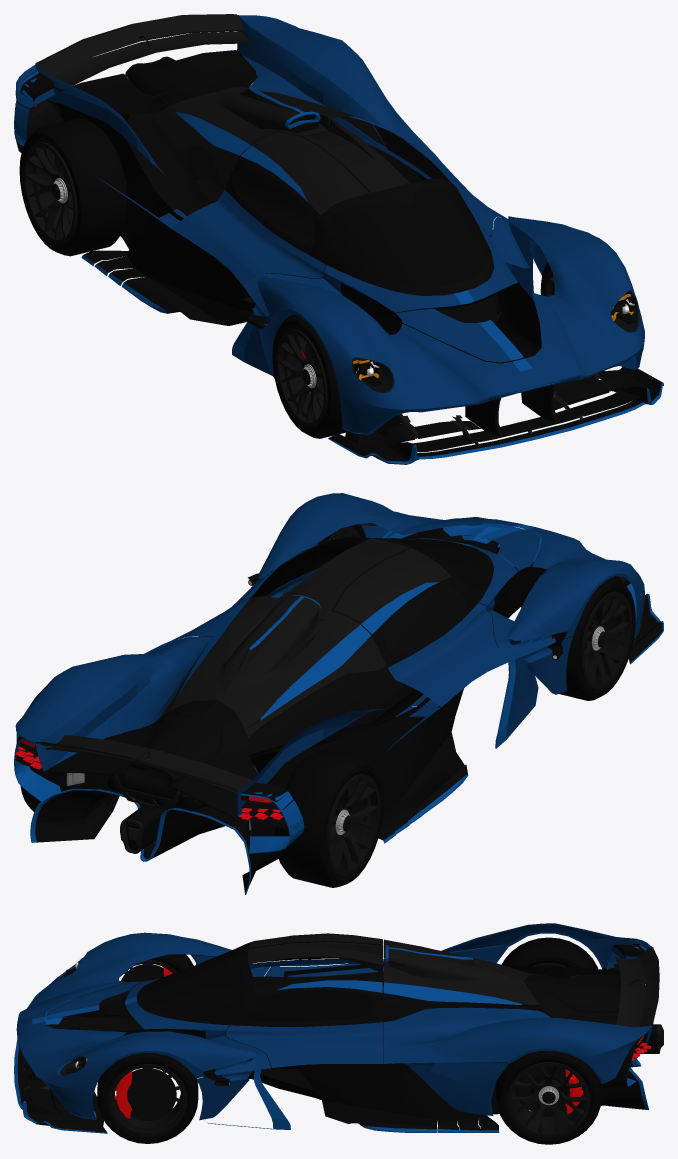
File: sport_car.gltf
The picture shows the model from 3 angles, top to bottom: view 1: azimuth 30°, elevation 25°; view 2: azimuth 150°, elevation 25°; view 3: azimuth 270°, elevation 25°; orthographic projection. The views are drawn at different scales.
Parts seen in each view (by area): view 1: Body, Plane011, Plane047, Plane003, RearLeftWheel, Plane027, Plane114, Plane025, Plane084, Plane005, Plane008, Plane015 (+21 smaller); view 2: Plane011, Body, Plane003, Plane005, Plane114, RearLeftWheel, Plane025, Plane007, Plane015, Plane027, Plane047, Plane014 (+21 smaller); view 3: Body, Plane011, Plane003, Plane047, Plane005, Plane023, Plane114, Plane084, Plane022, RearRightWheel, FrontRightWheel, Plane027 (+23 smaller).
Boxes of the visible parts, box(x1,y1,x2,y2) form: Body: box(243, 216, 644, 433); Plane011: box(57, 81, 541, 363); Plane047: box(329, 130, 488, 286); Plane003: box(237, 15, 441, 161); RearLeftWheel: box(19, 118, 127, 256); Plane027: box(35, 14, 254, 91); Plane114: box(14, 71, 663, 464); Plane025: box(171, 189, 325, 285); Plane084: box(225, 124, 494, 295); Plane005: box(170, 87, 358, 144); Plane008: box(329, 367, 662, 461); Plane015: box(251, 131, 369, 214); Plane011: box(35, 527, 546, 892); Body: box(243, 493, 644, 694); Plane003: box(15, 636, 212, 771); Plane005: box(170, 595, 360, 728); Plane114: box(14, 524, 663, 894); RearLeftWheel: box(275, 750, 383, 887); Plane025: box(388, 603, 509, 706); Plane007: box(107, 712, 220, 811); Plane015: box(334, 548, 451, 623); Plane027: box(35, 735, 256, 794); Plane047: box(242, 537, 488, 601); Plane014: box(280, 538, 409, 619); Body: box(16, 932, 271, 1120); Plane011: box(61, 963, 645, 1130); Plane003: box(383, 1007, 652, 1115); Plane047: box(146, 941, 373, 1022); Plane005: box(384, 939, 539, 1004); Plane023: box(225, 1022, 382, 1067); Plane114: box(14, 941, 648, 1133); Plane084: box(136, 941, 382, 1026); Plane022: box(383, 923, 651, 976); RearRightWheel: box(496, 1051, 601, 1144); FrontRightWheel: box(97, 1052, 198, 1143); Plane027: box(615, 947, 659, 1026).
Bounding box in the file's own units: 2.19 × 1.2 × 4.99.
